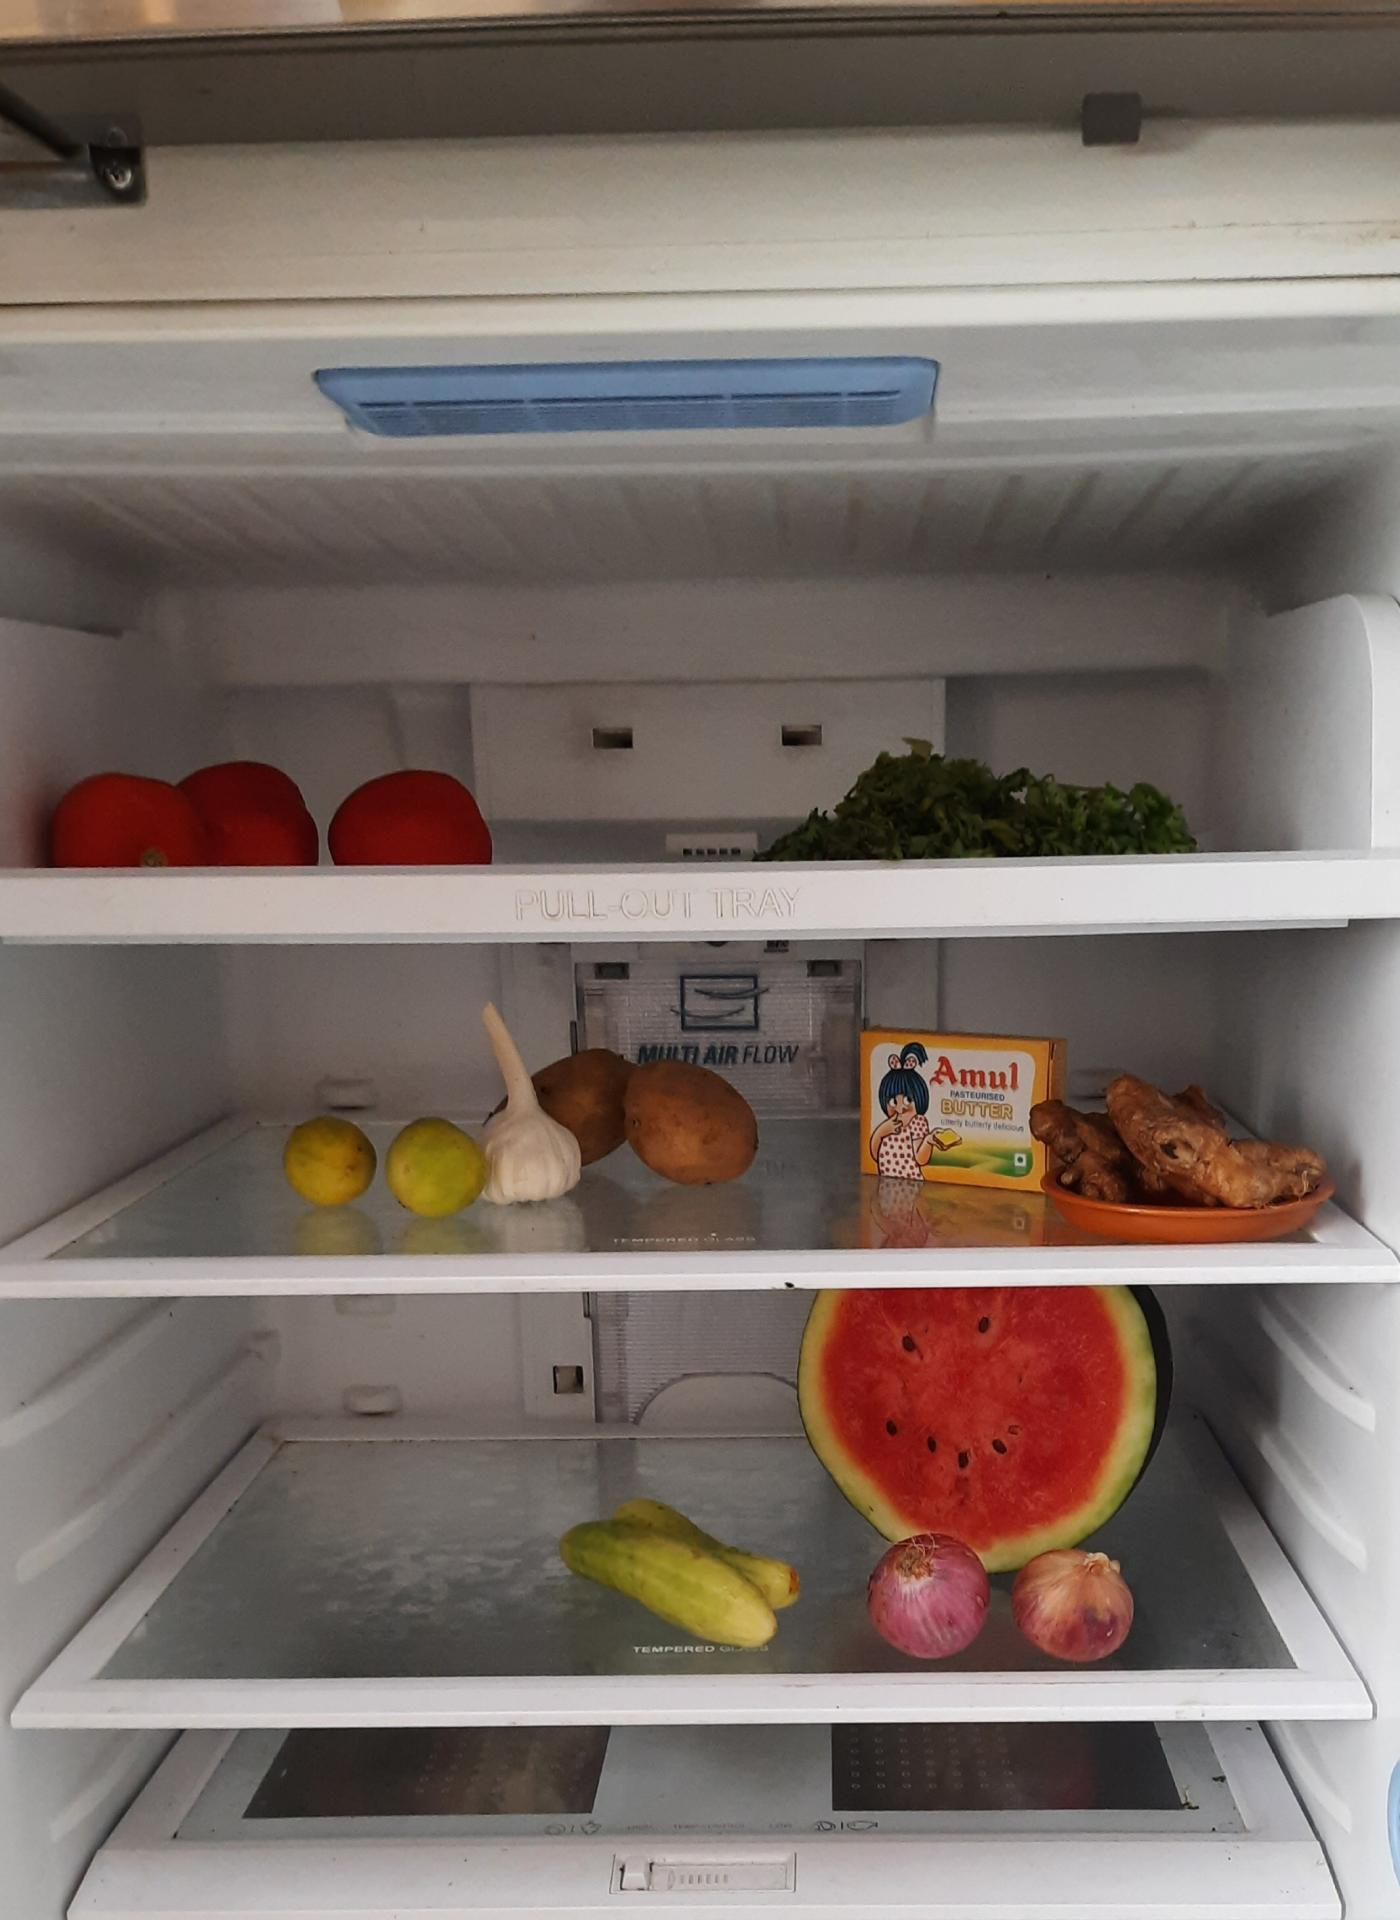butter: (859, 1039, 1051, 1203)
coriander: (765, 739, 1212, 848)
cucumber: (570, 1500, 813, 1649)
garlic: (482, 1000, 580, 1204)
ginger: (1027, 1061, 1322, 1221)
lemon: (285, 1117, 483, 1219)
onion: (871, 1531, 1153, 1659)
potato: (525, 1045, 760, 1187)
tomato: (64, 765, 495, 882)
watermelon: (801, 1282, 1161, 1570)
